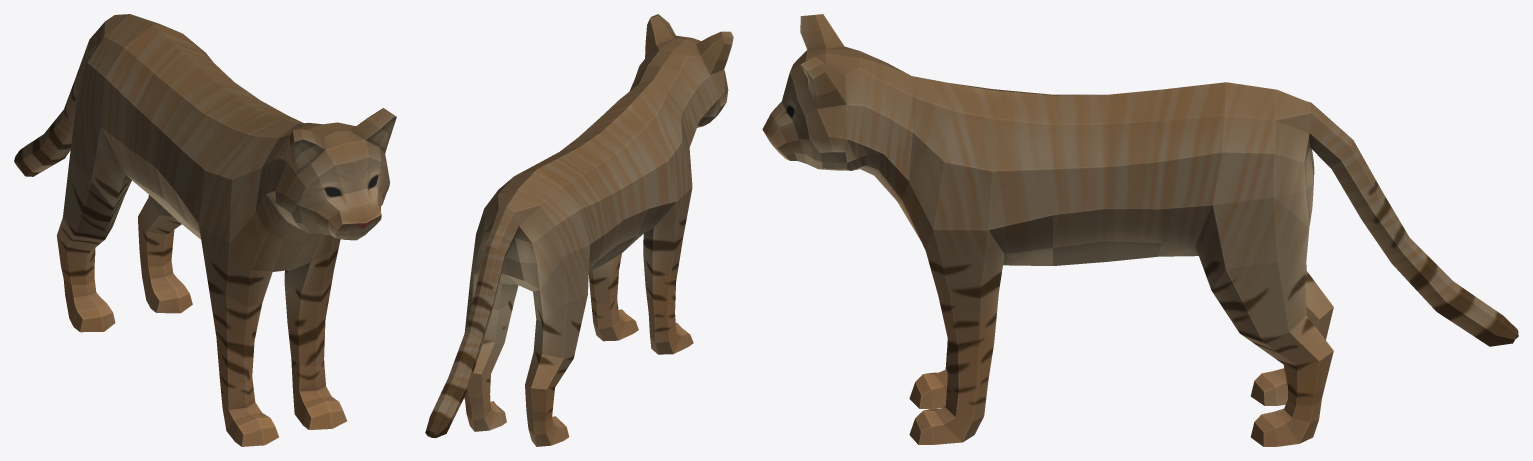
Rendered from gato-selvagem.glb.
3 renders of one model, left to right at view 1: azimuth 30°, elevation 25°; view 2: azimuth 150°, elevation 25°; view 3: azimuth 270°, elevation 25°, orthographic. The views are drawn at different scales.
Visible parts, largest first — view 1: ArabianWildcat_mesh; view 2: ArabianWildcat_mesh; view 3: ArabianWildcat_mesh.
Boxes of the visible parts, x1=… form: ArabianWildcat_mesh: x1=14, y1=14, x2=396, y2=446; ArabianWildcat_mesh: x1=425, y1=14, x2=733, y2=446; ArabianWildcat_mesh: x1=762, y1=14, x2=1518, y2=446.
Bounding box in the file's own units: 0.8993 × 2.36 × 4.24.
Materials: 1 (1 with a texture image).
